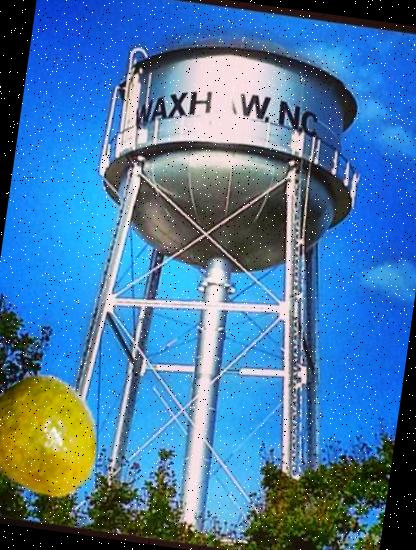Guava: (0, 369, 115, 510)
